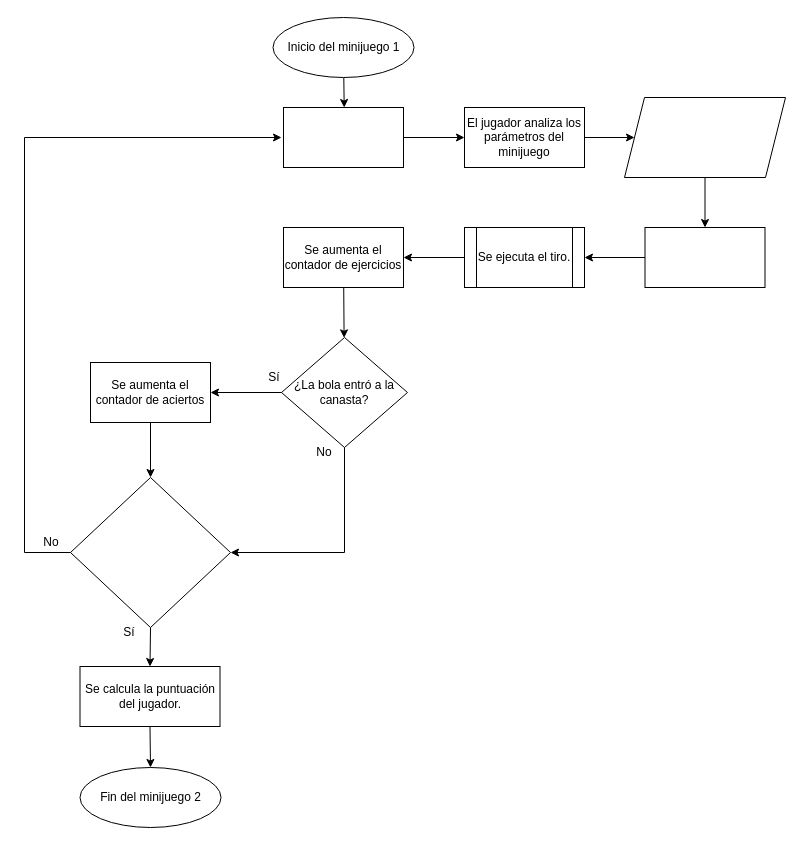
Some shapes in this 803 by 845 pixel diagram are drawn without their labels. The centre of each missing label's shape, as x and y in pixels:
El jugador indica que se ejecute el tiro.: (x=704, y=257)
El jugador ingresa los parámetros: - angulo_salida - fuerza_inicial: (x=705, y=137)
Se inicializa el minijuego y sus parámetros.: (x=343, y=137)
¿El número de ejercicios es igual al número de ejercicios del minijuego?: (x=150, y=552)
